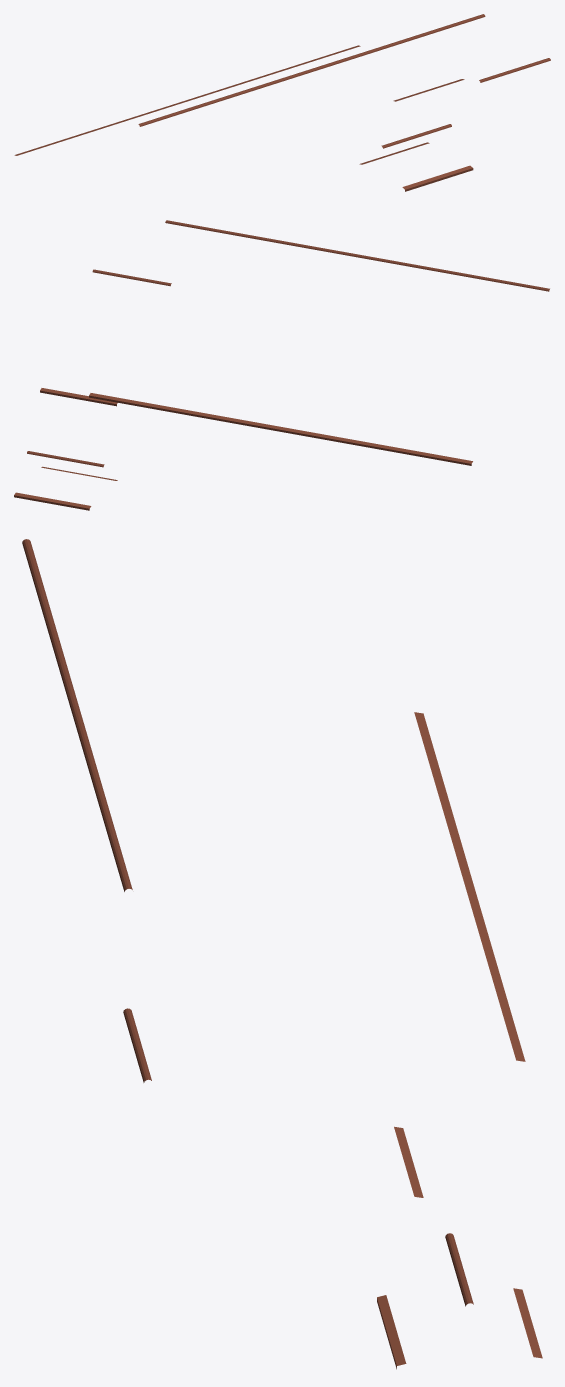
The picture shows the model from 3 angles, top to bottom: view 1: azimuth 30°, elevation 25°; view 2: azimuth 150°, elevation 25°; view 3: azimuth 270°, elevation 25°; orthographic projection. The views are drawn at different scales.
Visible parts, largest first — view 1: detail; view 2: detail; view 3: detail.
Boxes of the visible parts, <box> form: detail: <box>14,14,550,191</box>; detail: <box>14,220,549,510</box>; detail: <box>22,539,542,1369</box>.
Size of the model in its own units: 34.94 by 16.03 by 17.62.
